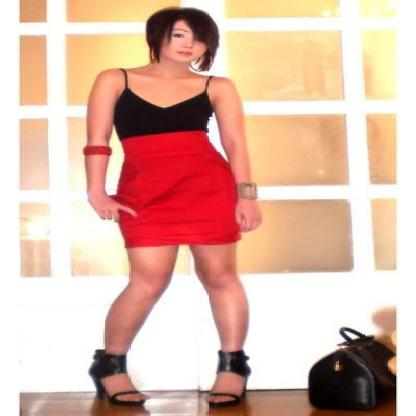dress: (112, 92, 257, 248)
shoe: (90, 350, 248, 415)
